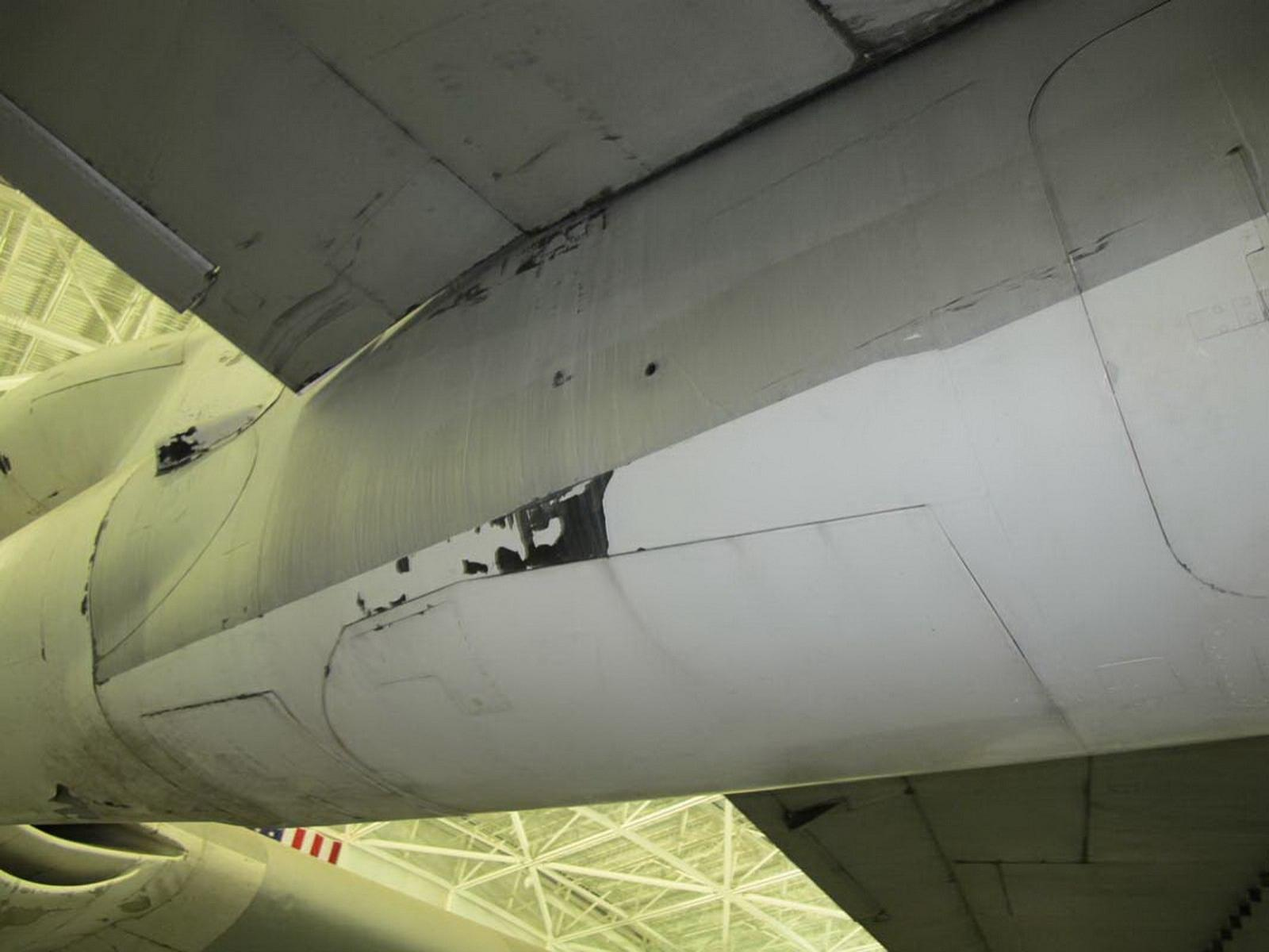Skin_Cover: (493, 472, 612, 574)
